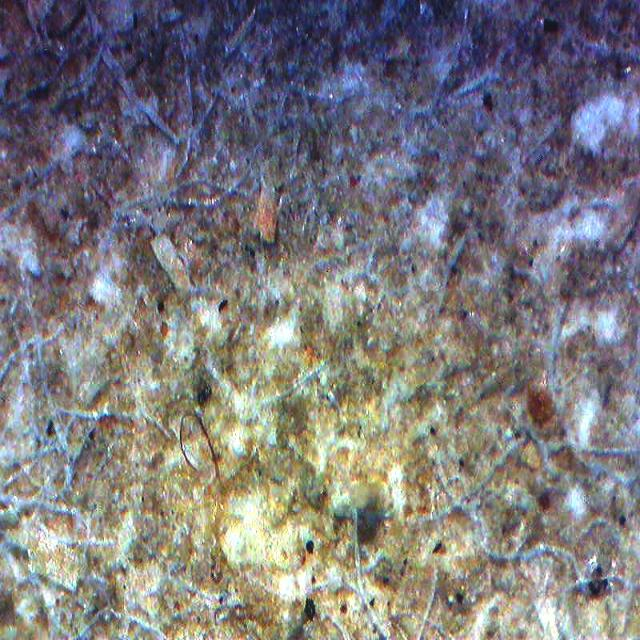microplastic: (168, 409, 219, 472)
